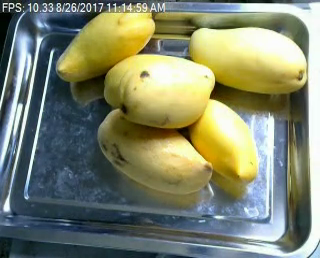Mango: (97, 107, 211, 195), (186, 26, 307, 94), (102, 50, 214, 121), (55, 6, 155, 83), (185, 98, 257, 181), (119, 62, 208, 126)
